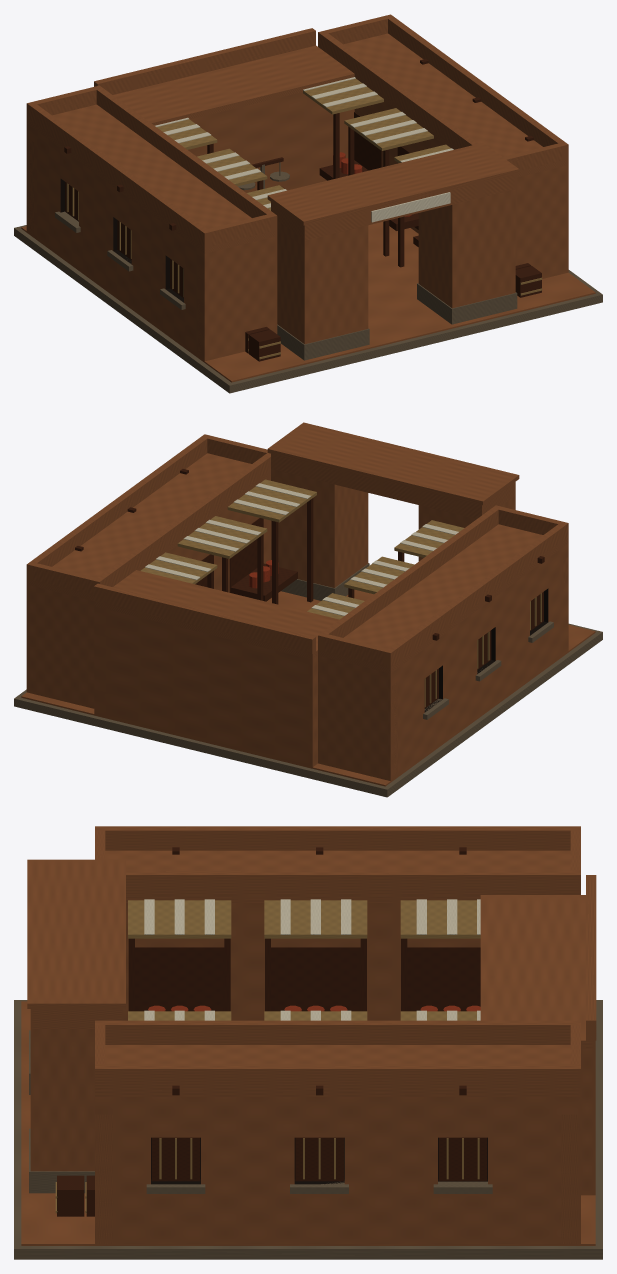
The model's file is Berber_Market_Age2.fbx.
3 views of the same model, one above another, from view 1: azimuth 30°, elevation 25°; view 2: azimuth 150°, elevation 25°; view 3: azimuth 270°, elevation 25° (orthographic). The views are drawn at different scales.
Visible parts, largest first — view 1: west_warehouse, court_floor, entry_right_pier, entry_left_pier, rear_goods_hall, rear_hall_roof, entry_coping, west_roof, east_roof, foundation, east_warehouse, rear_hall_parapet (+21 smaller); view 2: west_warehouse, rear_goods_hall, east_warehouse, entry_coping, west_roof, east_roof, entry_right_pier, foundation, rear_hall_roof, rear_hall_parapet, west_parapet, entry_lintel (+21 smaller); view 3: east_warehouse, entry_coping, rear_hall_roof, east_roof, foundation, east_parapet.001, east_parapet, west_parapet, west_roof, west_parapet.001, west_warehouse, entry_right_pier (+22 smaller).
Part boxes in pixels (x1,y1,x2,y2): west_warehouse: (26,124,277,361); court_floor: (21,222,595,382); entry_right_pier: (418,189,515,308); entry_left_pier: (277,221,368,344); rear_goods_hall: (188,92,354,192); rear_hall_roof: (113,45,354,125); entry_coping: (267,143,519,225); west_roof: (26,104,277,253); east_roof: (344,33,568,177); foundation: (14,225,602,393); east_warehouse: (354,101,568,278); rear_hall_parapet: (94,28,315,94); west_warehouse: (318,544,568,780); rear_goods_hall: (94,606,317,767); east_warehouse: (26,477,270,708); entry_coping: (267,422,519,505); west_roof: (318,524,568,673); east_roof: (26,453,270,601); entry_right_pier: (271,469,368,587); foundation: (14,623,602,797); rear_hall_roof: (94,570,338,659); rear_hall_parapet: (94,583,315,653); west_parapet: (384,521,568,667); entry_lintel: (271,453,515,519); east_warehouse: (95,1097,580,1243); entry_coping: (27,859,125,1008); rear_hall_roof: (480,895,595,1048); east_roof: (95,1045,580,1096); foundation: (14,1000,602,1259); east_parapet.001: (95,1064,580,1088); east_parapet: (95,1020,580,1044); west_parapet: (95,826,580,850); west_roof: (105,850,570,902); west_parapet.001: (126,870,580,894); west_warehouse: (122,903,480,1020); entry_right_pier: (30,1030,94,1171).
Bounding box in the file's own units: 800 × 305 × 800.
Materials: 7 (7 with a texture image).
